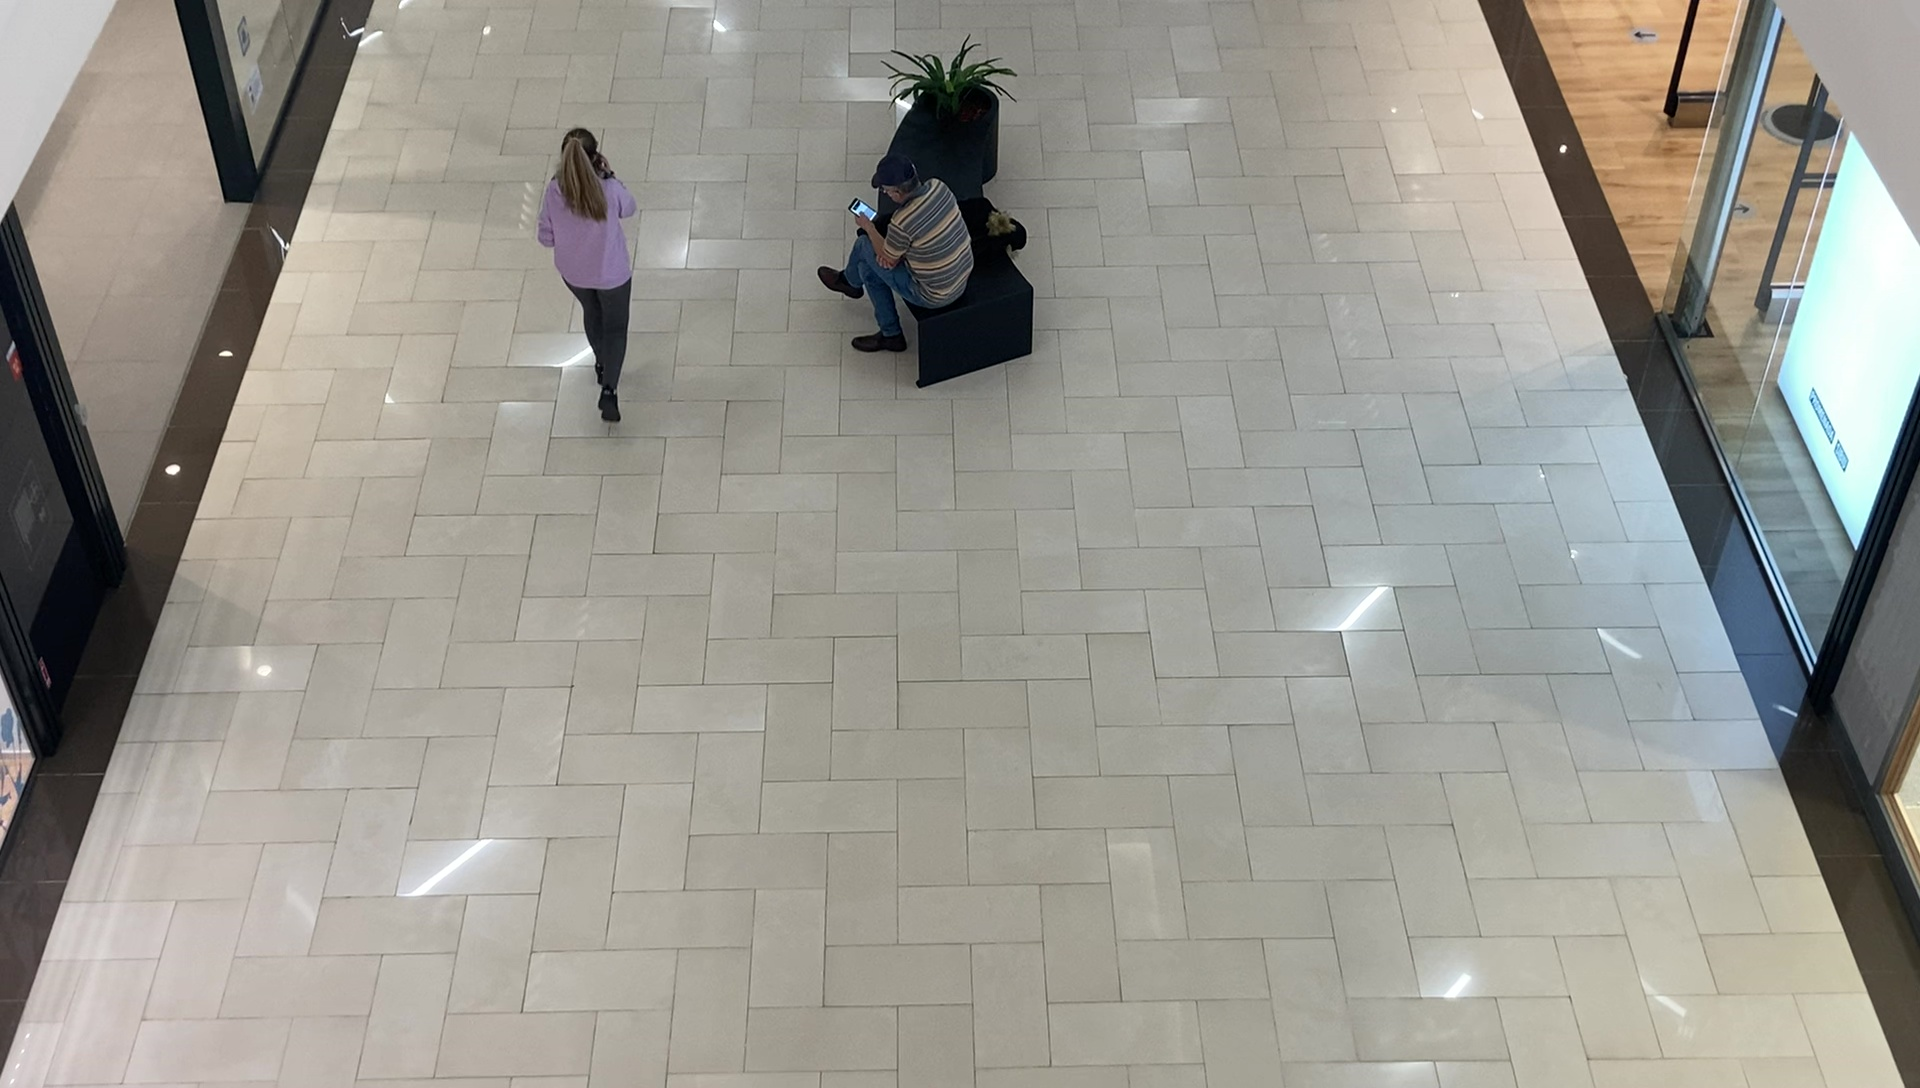person: (534, 125, 642, 424), (850, 157, 975, 353)
